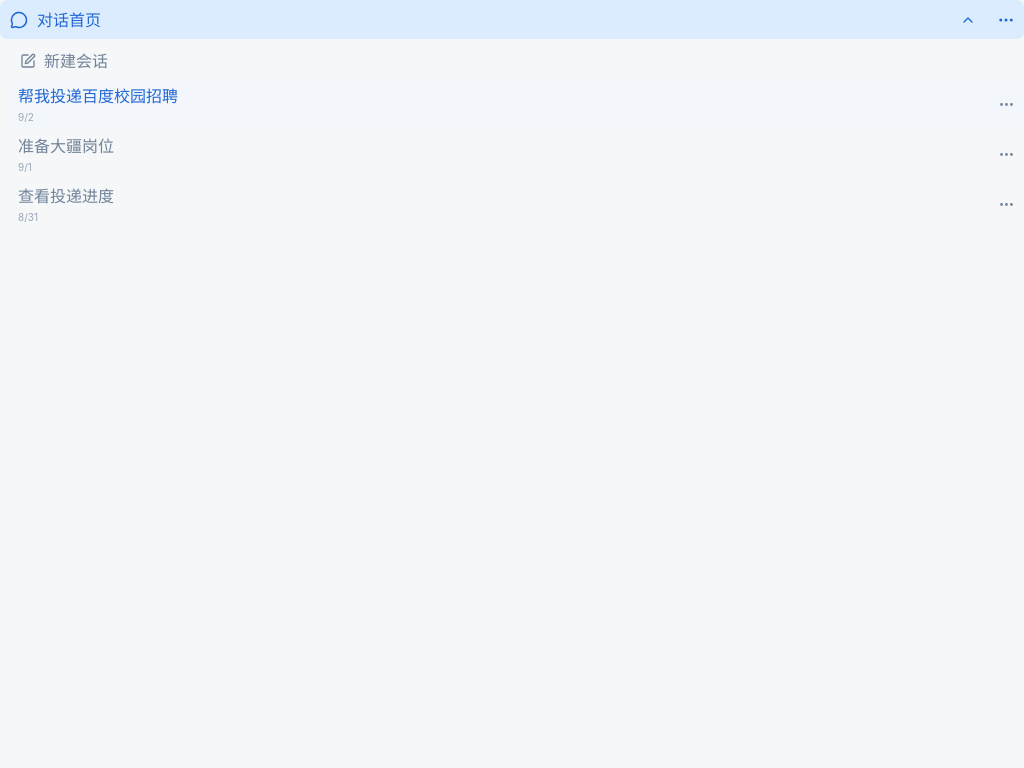
ConversationNavigation › opens data-retention confirmation dialogs for delete and clear
The image size is (1024, 768).
Click the button named "会话操作：帮我投递百度校园招聘": (1006, 104) [988,80,1023,129]
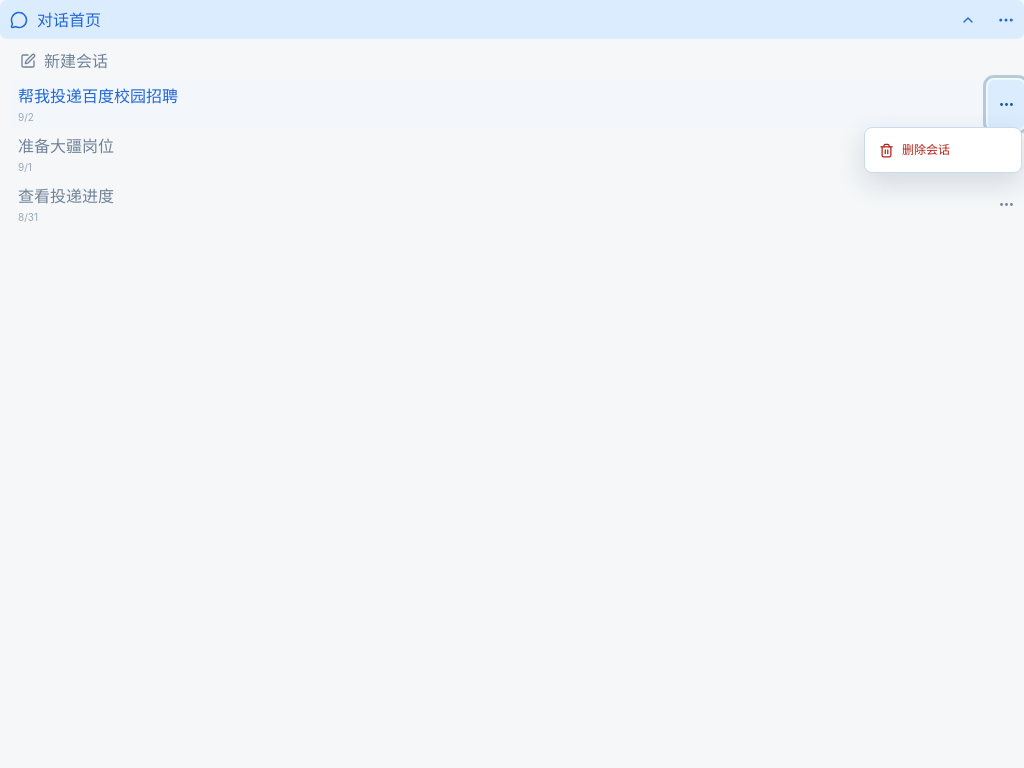
Click the menu item "删除会话": (943, 150) [870,133,1016,167]
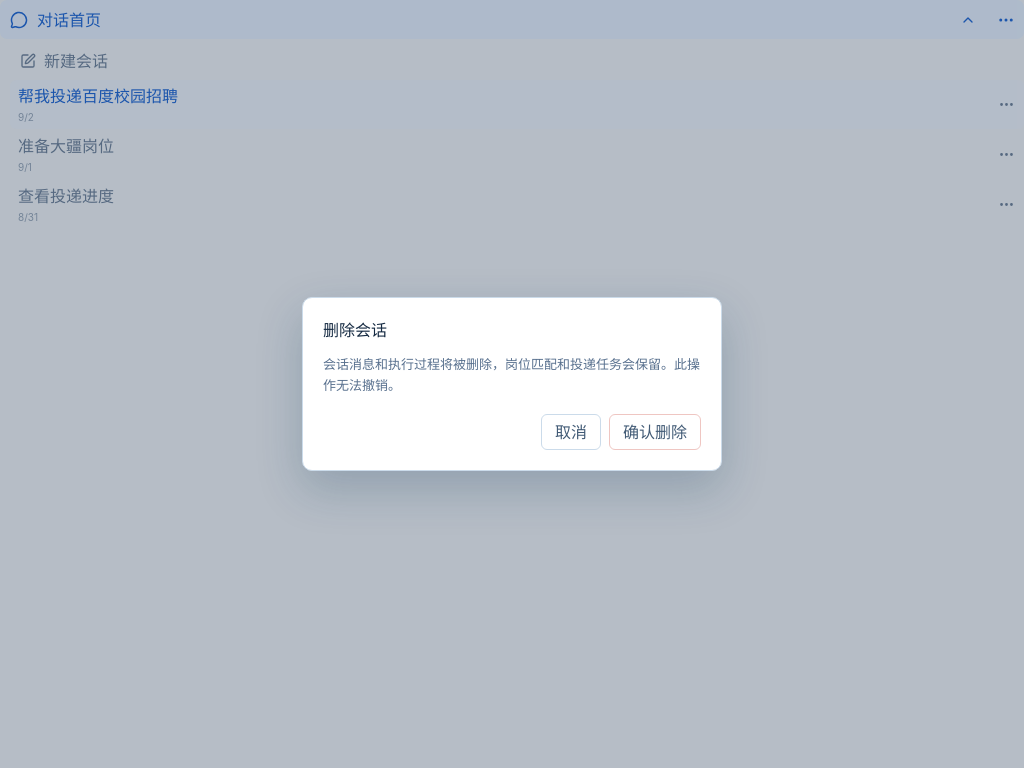
Check: the dialog shows "会话消息和执行过程将被删除，岗位匹配和投递任务会保留。此操作无法撤销。", box [323,356,700,393]
Click the button "取消": (571, 432) [541,414,601,450]
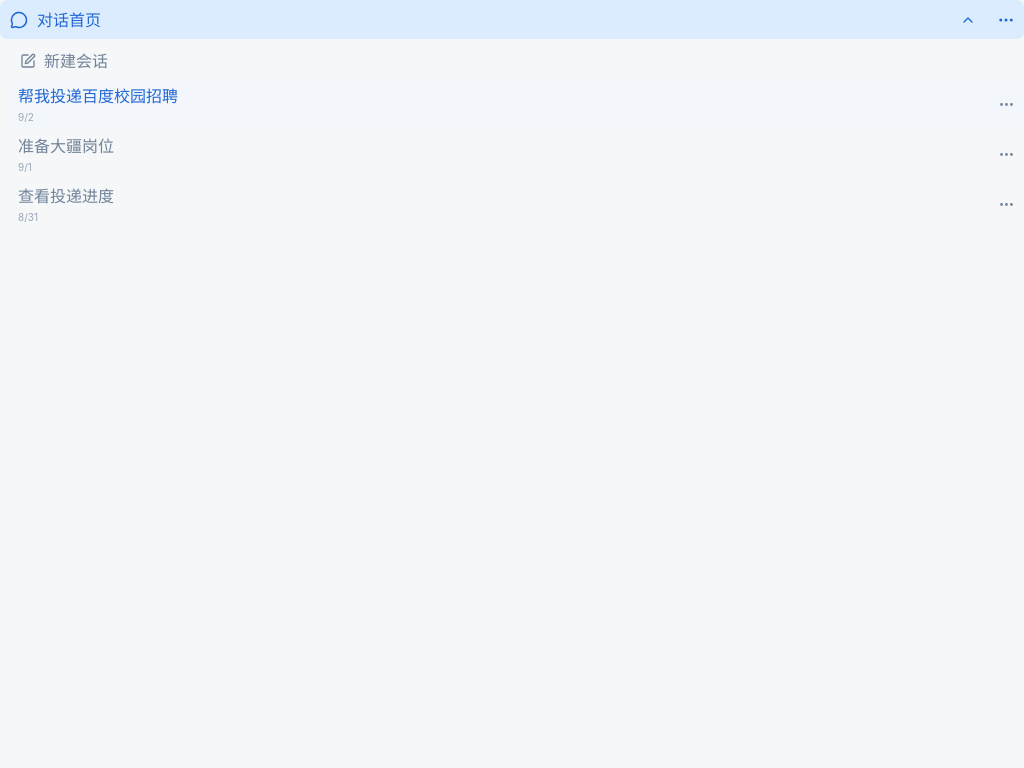
Click the button named "对话首页更多操作": (1006, 20) [988,0,1023,39]
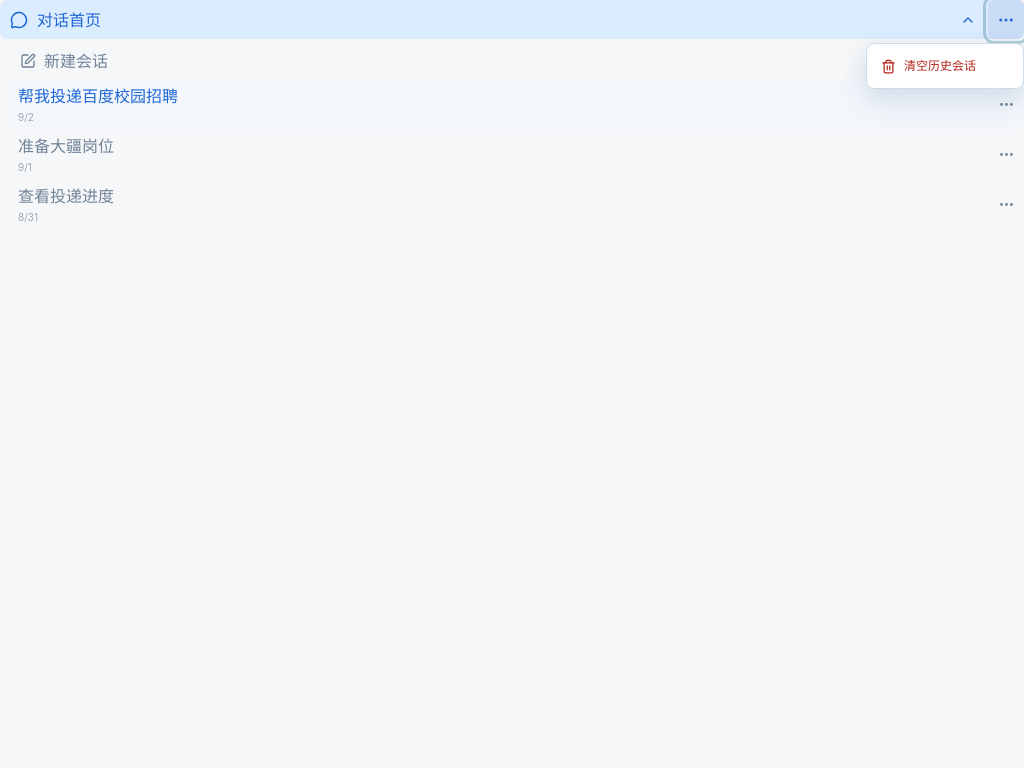
Click the menu item "清空历史会话": (945, 66) [872,49,1018,83]
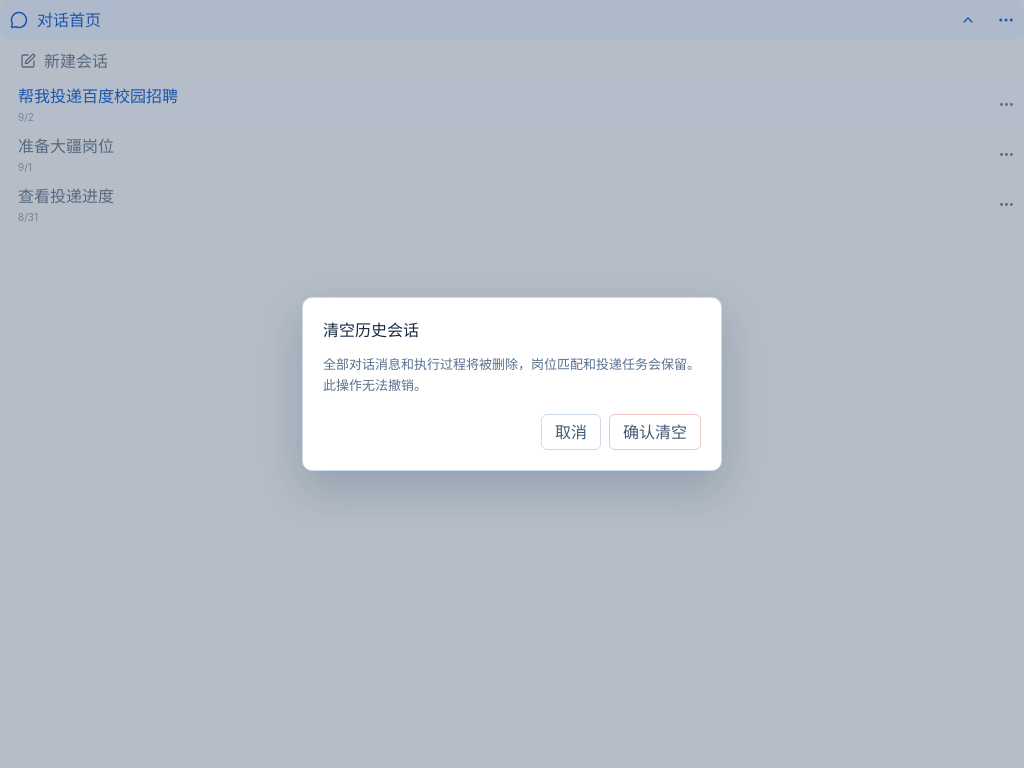
Check: the dialog shows "全部对话消息和执行过程将被删除，岗位匹配和投递任务会保留。此操作无法撤销。", box [323,356,700,393]
